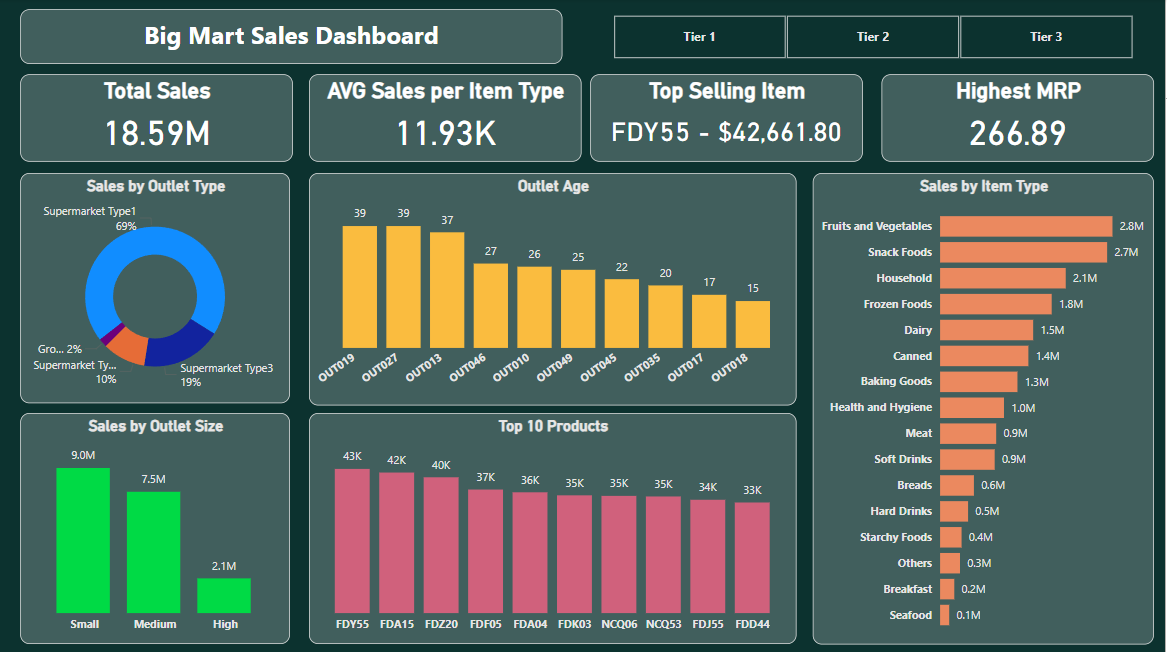

The page's visual inventory and layout, read from the dashboard file:
{"tool":"powerbi","page":{"name":"Page 1","canvas":[1280,720],"ordinal":0},"visuals":[{"type":"barChart","title":"Sales by Item Type","fields":{"Category":["latest.Item_Type"],"Y":["Sum(latest.Item_Outlet_Sales)"]},"box":[893.3,192.1,374.6,517.3],"z":0},{"type":"columnChart","title":"Outlet Age","fields":{"Category":["latest.Outlet_Identifier"],"Y":["Min(latest.Outlet_age)"]},"box":[340.3,192.1,535.2,255.2],"z":1000},{"type":"columnChart","title":"Top 10 Products","fields":{"Category":["latest.Item_Identifier"],"Y":["Sum(latest.Item_Outlet_Sales)"]},"box":[340.3,455.6,535.2,253.9],"z":2000},{"type":"donutChart","title":"Sales by Outlet Type","fields":{"Category":["latest.Outlet_Type"],"Y":["Sum(latest.Item_Outlet_Sales)"]},"box":[23.3,192.1,296.4,252.5],"z":3000},{"type":"columnChart","title":"Sales by Outlet Size","fields":{"Category":["latest.Outlet_Size"],"Y":["Sum(latest.Item_Outlet_Sales)"]},"box":[23.3,455.6,296.4,253.9],"z":4000},{"type":"textbox","box":[23.3,12.3,595.5,60.4],"z":5000},{"type":"slicer","fields":{"Values":["latest.Outlet_Location_Type"]},"box":[649.1,12.3,618.9,60.4],"z":6000},{"type":"card","title":"Total Sales","fields":{"Values":["Sum(latest.Item_Outlet_Sales)"]},"box":[23.3,83.7,299.1,96.1],"z":7000},{"type":"card","title":"AVG Sales per Item Type","fields":{"Values":["latest.Average Sales per Outlet"]},"box":[340.3,83.7,299.1,96.1],"z":8000},{"type":"card","title":"Top Selling Item","fields":{"Values":["latest.Top Selling Item with Sales"]},"box":[649.1,83.7,299.1,96.1],"z":9000},{"type":"card","title":"Highest MRP","fields":{"Values":["Max(latest.Item_MRP)"]},"box":[968.8,83.7,299.1,96.1],"z":10000}]}

Visuals, with their boxes in screenshot pixels (x1, y1, x2, y2), scaled from the page's 1280x720 canvas onto the 1167x652 screenshot:
"Sales by Item Type" barChart: (x1=814, y1=174, x2=1156, y2=642)
"Outlet Age" columnChart: (x1=310, y1=174, x2=798, y2=405)
"Top 10 Products" columnChart: (x1=310, y1=413, x2=798, y2=642)
"Sales by Outlet Type" donutChart: (x1=21, y1=174, x2=291, y2=403)
"Sales by Outlet Size" columnChart: (x1=21, y1=413, x2=291, y2=642)
textbox: (x1=21, y1=11, x2=564, y2=66)
slicer - latest.Outlet_Location_Type: (x1=592, y1=11, x2=1156, y2=66)
"Total Sales" card: (x1=21, y1=76, x2=294, y2=163)
"AVG Sales per Item Type" card: (x1=310, y1=76, x2=583, y2=163)
"Top Selling Item" card: (x1=592, y1=76, x2=864, y2=163)
"Highest MRP" card: (x1=883, y1=76, x2=1156, y2=163)
